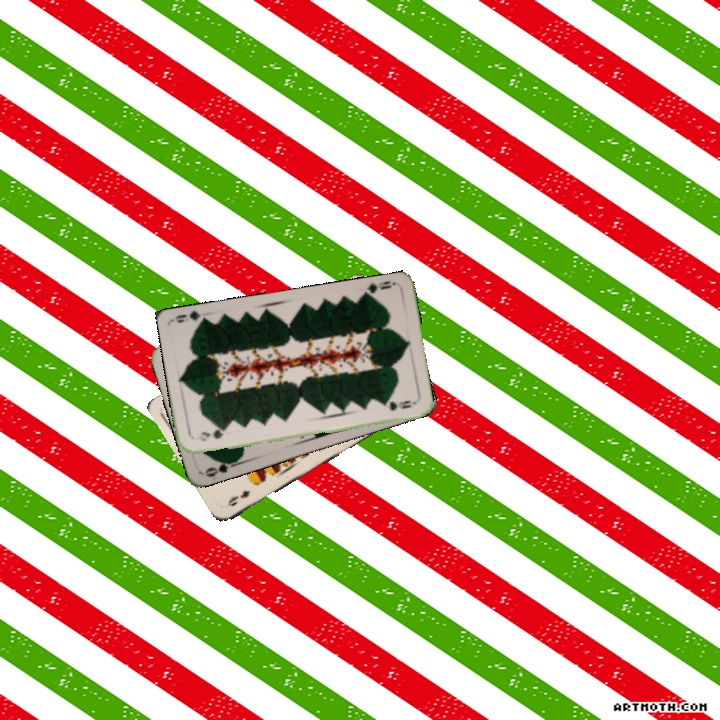E9: (224, 486, 253, 509)
G9: (359, 277, 398, 300), (195, 425, 228, 444)
GO: (201, 455, 241, 480)
